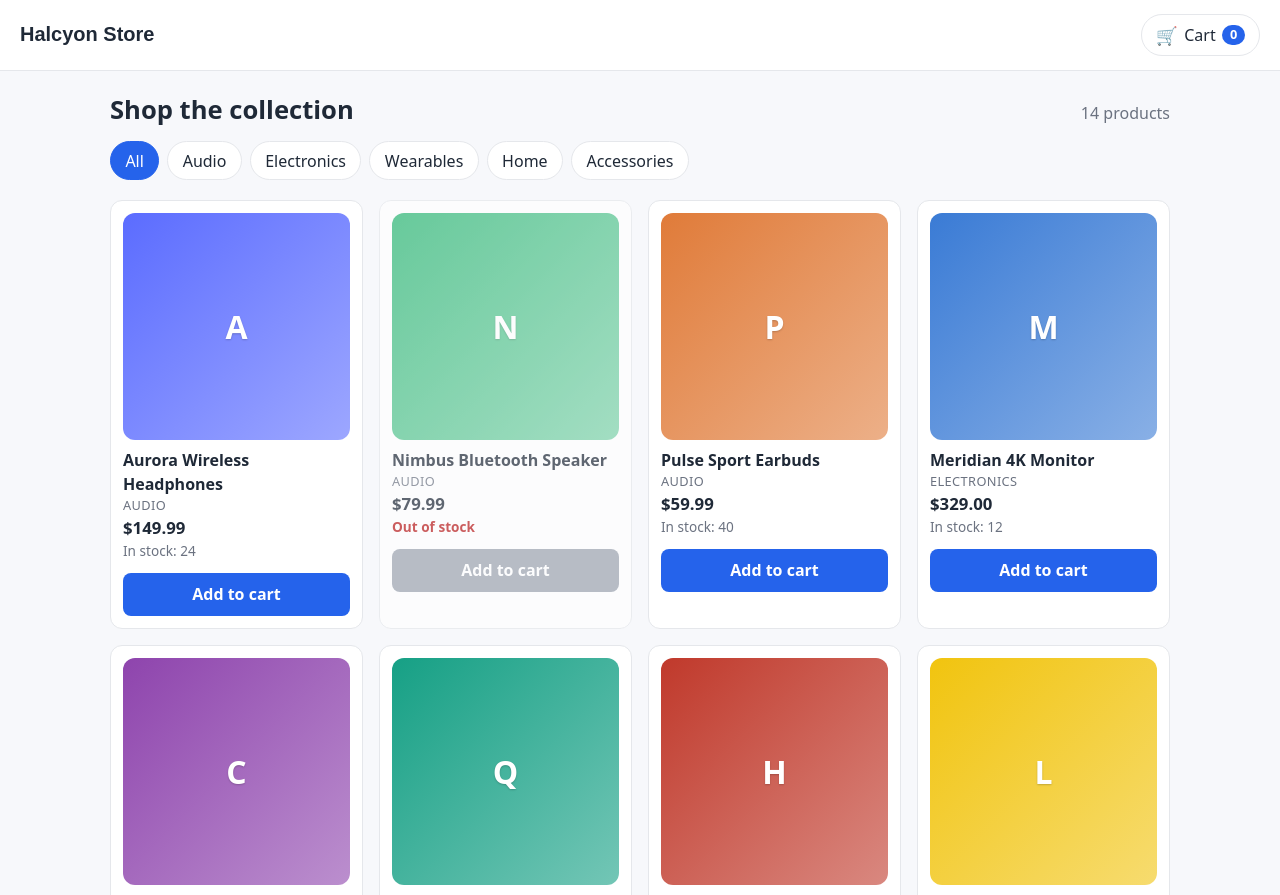
Test: cart + checkout › VAL-RETAIL-018: re-adding the same product consolidates into one line › two adds of the same product yield a single line with qty 2
Click the 4th button with test id "add-to-cart" at (236, 594), box [123,573,350,616]
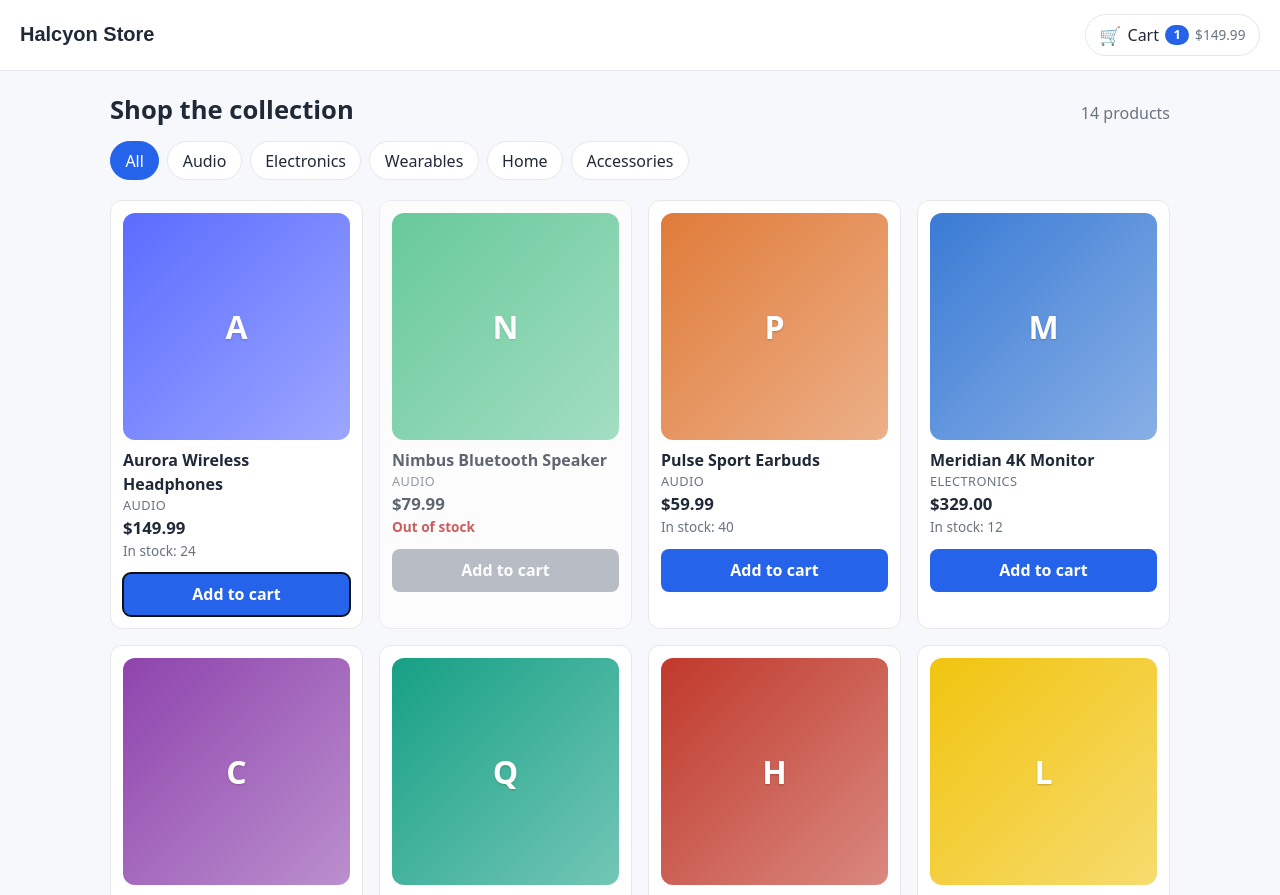
Click the 4th button with test id "add-to-cart" at (236, 594), box [123,573,350,616]
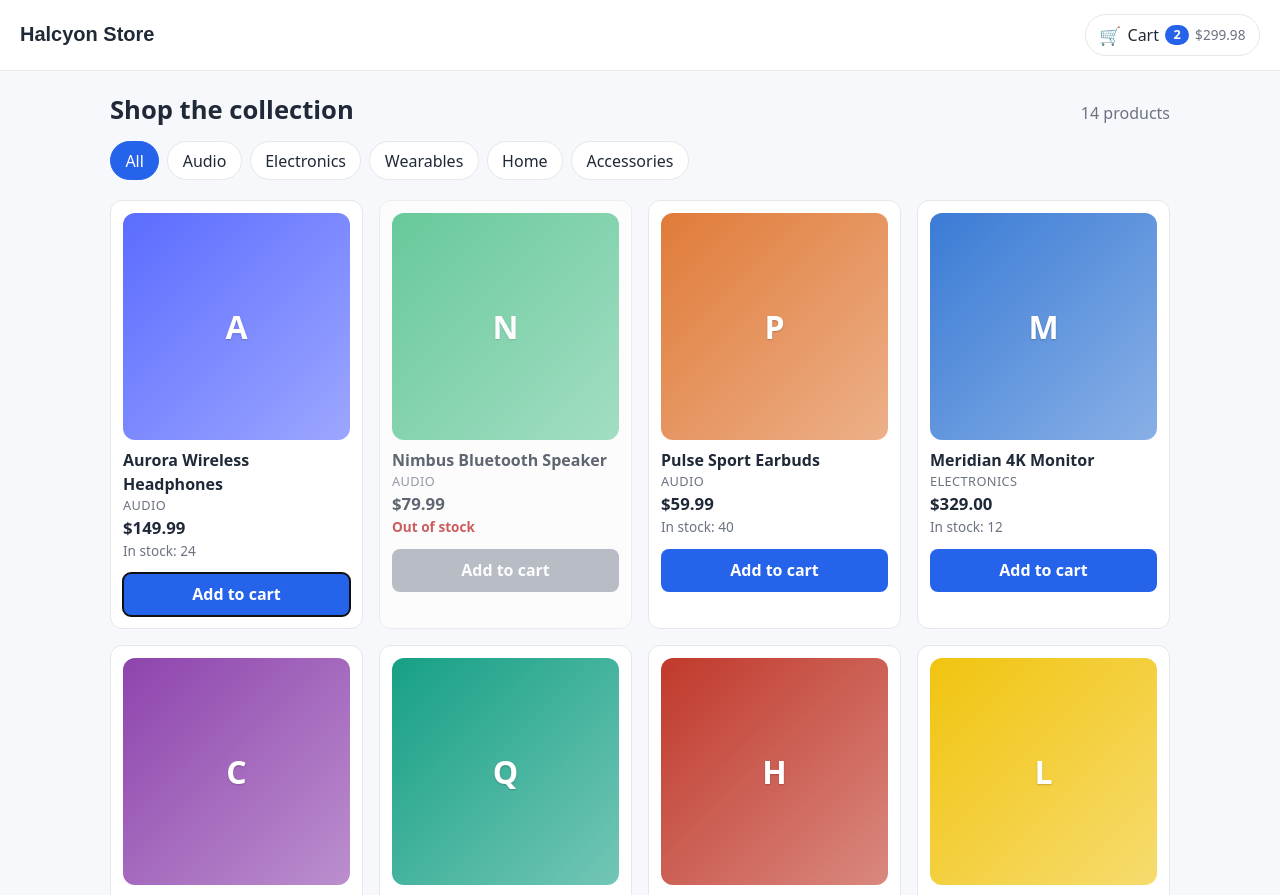
Click the button with test id "cart-link" at (1172, 35), box [1085,14,1260,56]
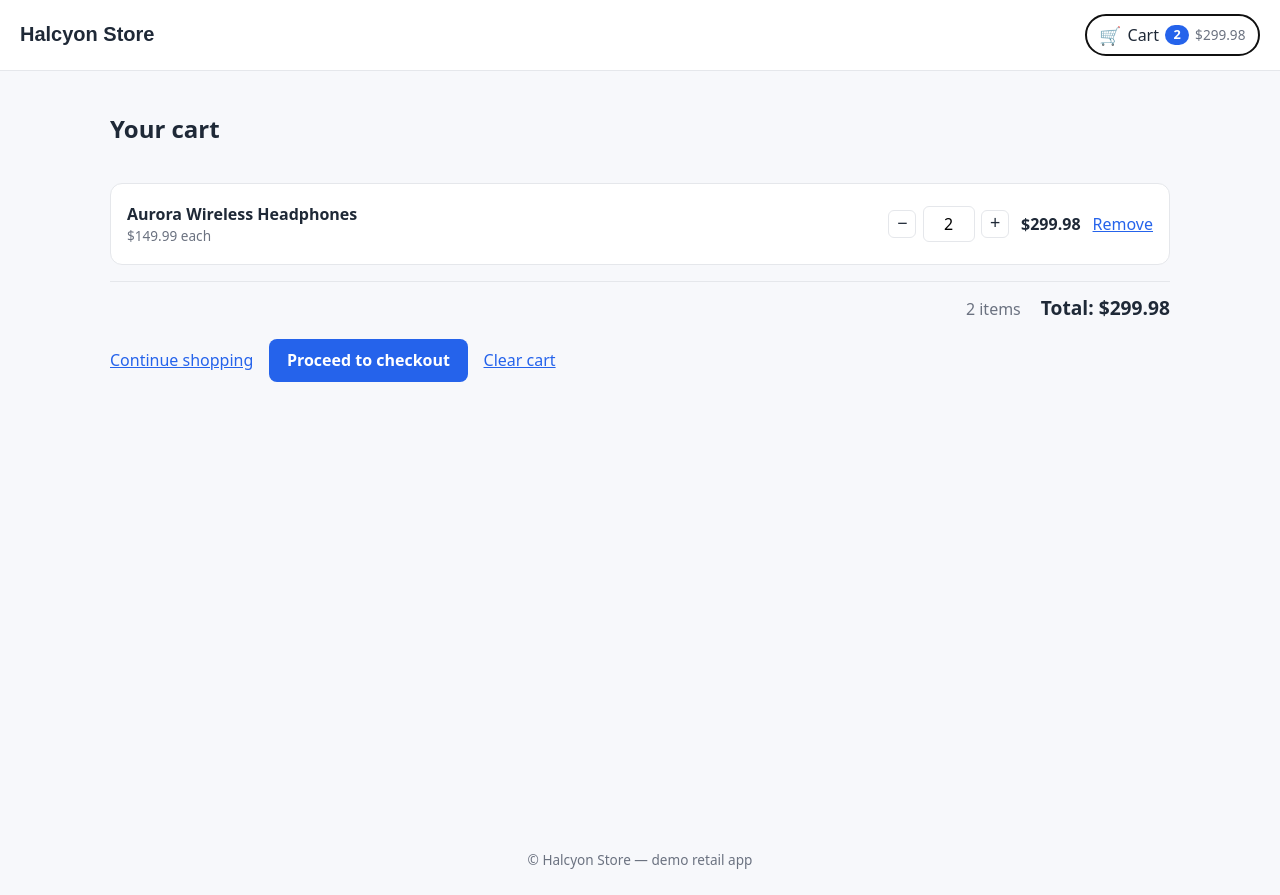
Expected: the text with test id "cart-count" reads "2", [1173,25,1181,43]
Expected: the number field with test id "cart-line-qty" holds "2", [923,206,975,242]
